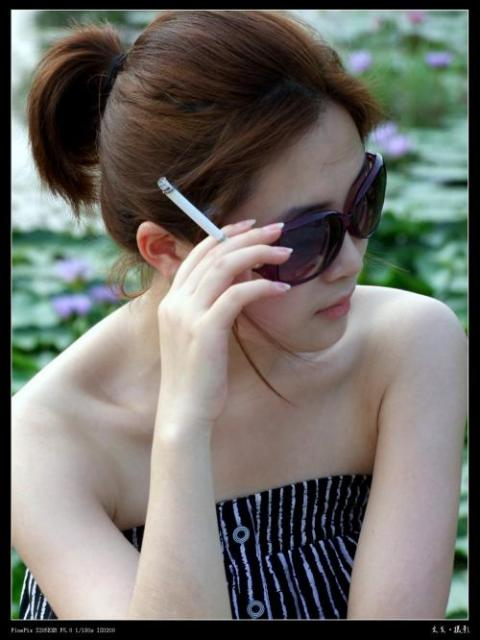Cigarette: (154, 176, 224, 240)
